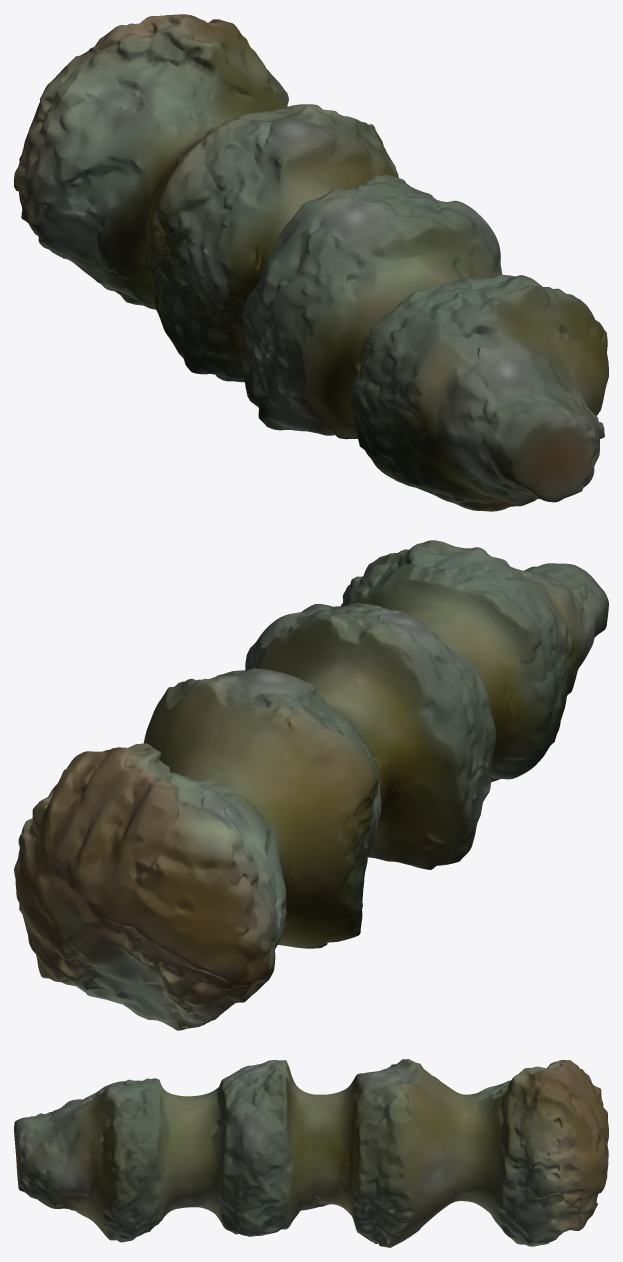
3 renders of one model, top to bottom at view 1: azimuth 30°, elevation 25°; view 2: azimuth 150°, elevation 25°; view 3: azimuth 270°, elevation 25°, orthographic. The views are drawn at different scales.
Parts seen in each view (by area): view 1: 2014_34_2297_4; view 2: 2014_34_2297_4; view 3: 2014_34_2297_4.
Boxes of the visible parts, x1=… form: 2014_34_2297_4: x1=14, y1=14, x2=608, y2=511; 2014_34_2297_4: x1=14, y1=540, x2=608, y2=1030; 2014_34_2297_4: x1=14, y1=1059, x2=608, y2=1247.
Size of the model in its own units: 0.0947 by 0.0952 by 0.2894.
